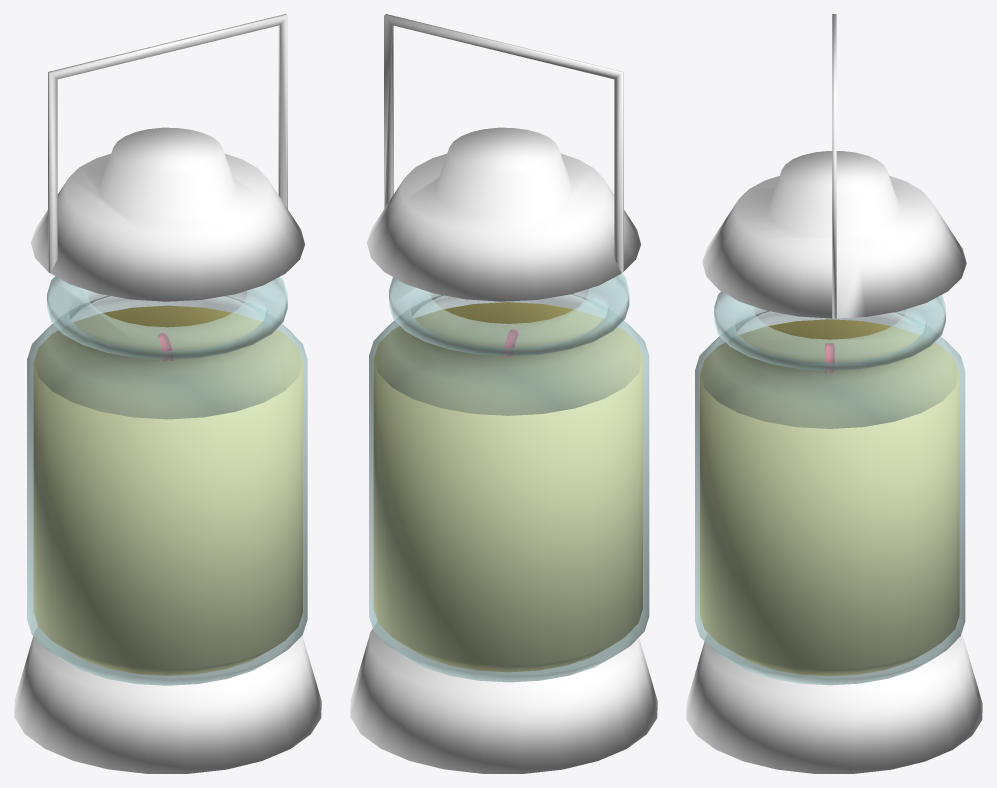
The picture shows the model from 3 angles, left to right: view 1: azimuth 30°, elevation 25°; view 2: azimuth 150°, elevation 25°; view 3: azimuth 270°, elevation 25°; orthographic projection. The views are drawn at different scales.
Bounding box in the file's own units: 0.1112 × 0.2659 × 0.1112.
